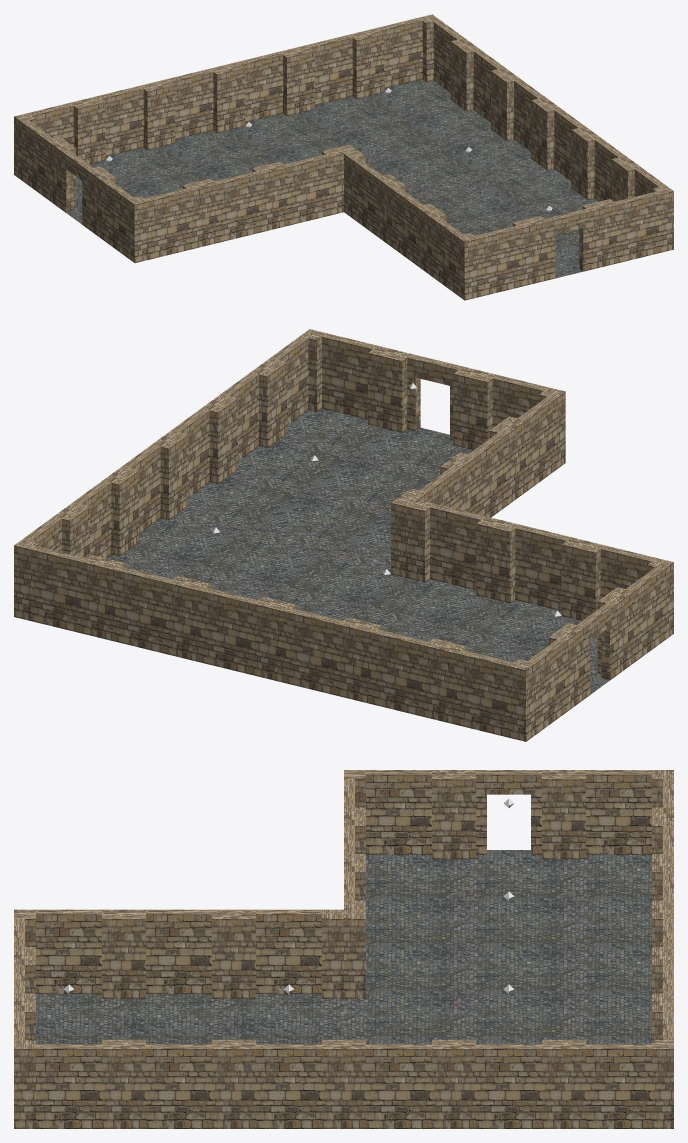
File: 1_3wideLRoom.fbx
3 renders of one model, top to bottom at view 1: azimuth 30°, elevation 25°; view 2: azimuth 150°, elevation 25°; view 3: azimuth 270°, elevation 25°, orthographic. The views are drawn at different scales.
Parts seen in each view (by area): view 1: Cube_5, Plane_1; view 2: Cube_5, Plane_1; view 3: Cube_5, Plane_1.
Part boxes in pixels (<box>): Cube_5: <box>14,14,673,300</box>; Plane_1: <box>66,79,598,278</box>; Cube_5: <box>14,329,673,741</box>; Plane_1: <box>106,408,609,694</box>; Cube_5: <box>14,770,673,1128</box>; Plane_1: <box>36,850,651,1044</box>.
Bounding box in the file's own units: 60 × 8 × 60.
Materials: 4 (4 with a texture image).
